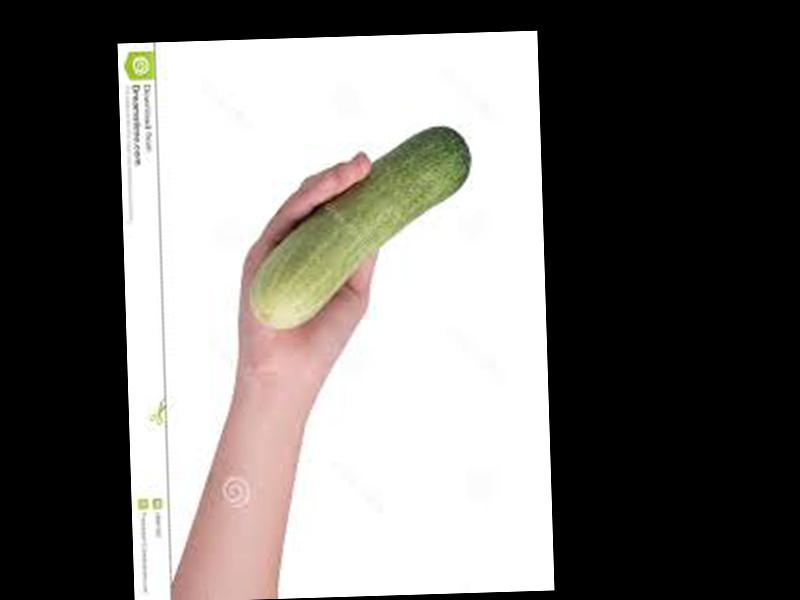Cucumber: (246, 128, 474, 329)
